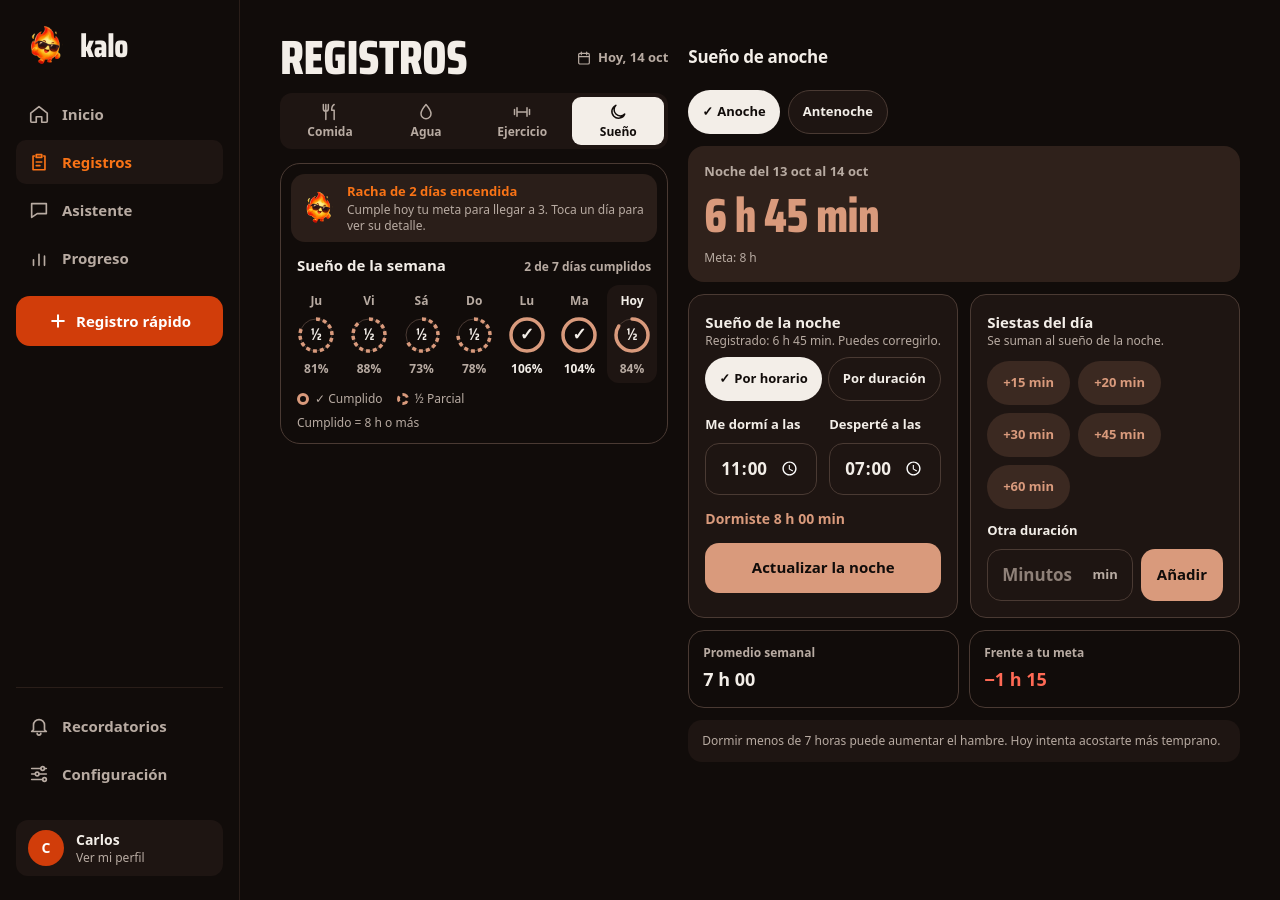
Scenario: Registros · hábitos › suma las siestas al total del día y permite quitarlas
Click the button "+30 min" at point(1029, 435), box [987,413,1070,457]
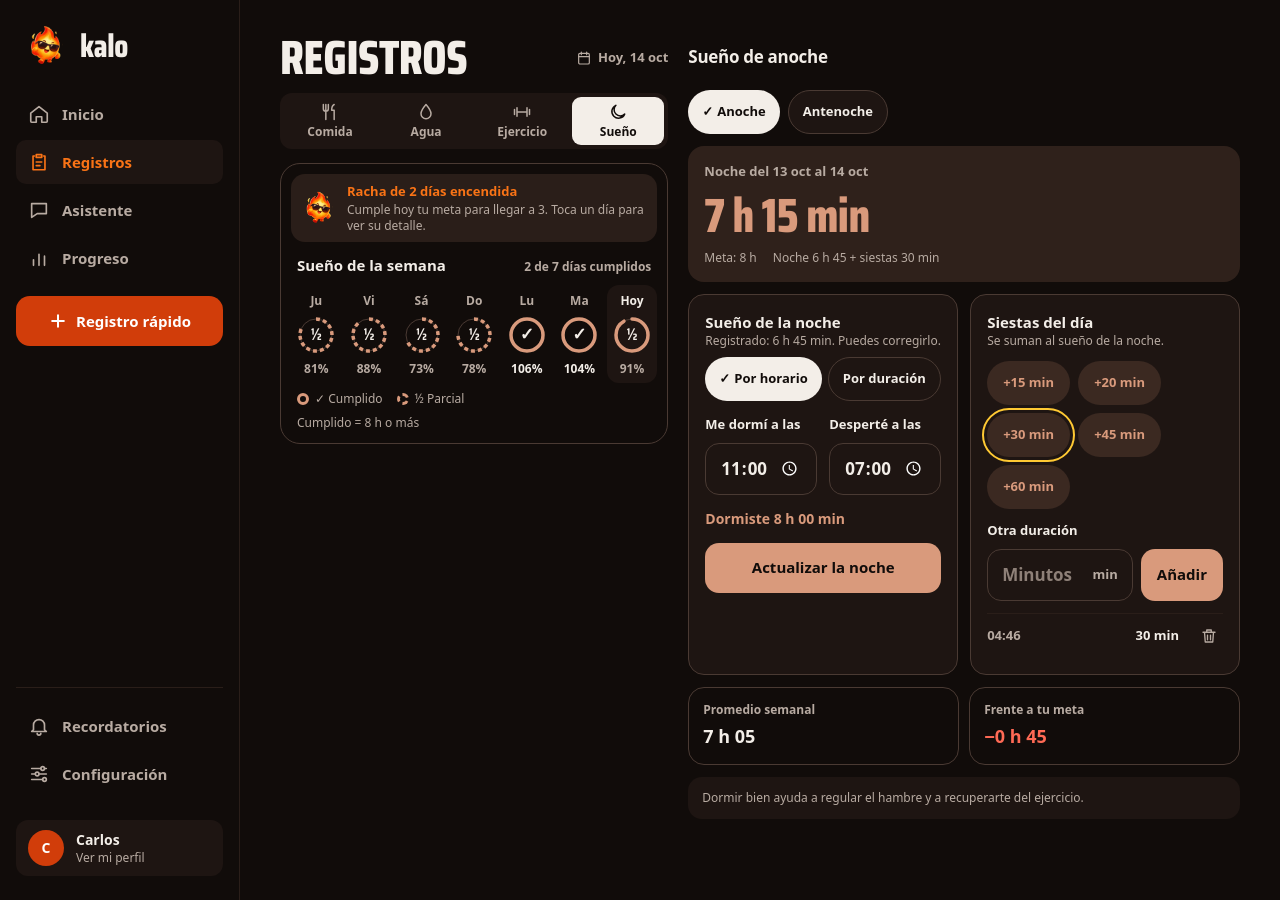
expect the text "7 h 15 min" is shown: met, box [704,178,870,252]
expect the text "Noche 6 h 45 + siestas 30 min" is shown: met, box [773,250,940,266]
Type "20" into the field labelled "Otra duración" at point(1043, 575), box [1002,562,1085,587]
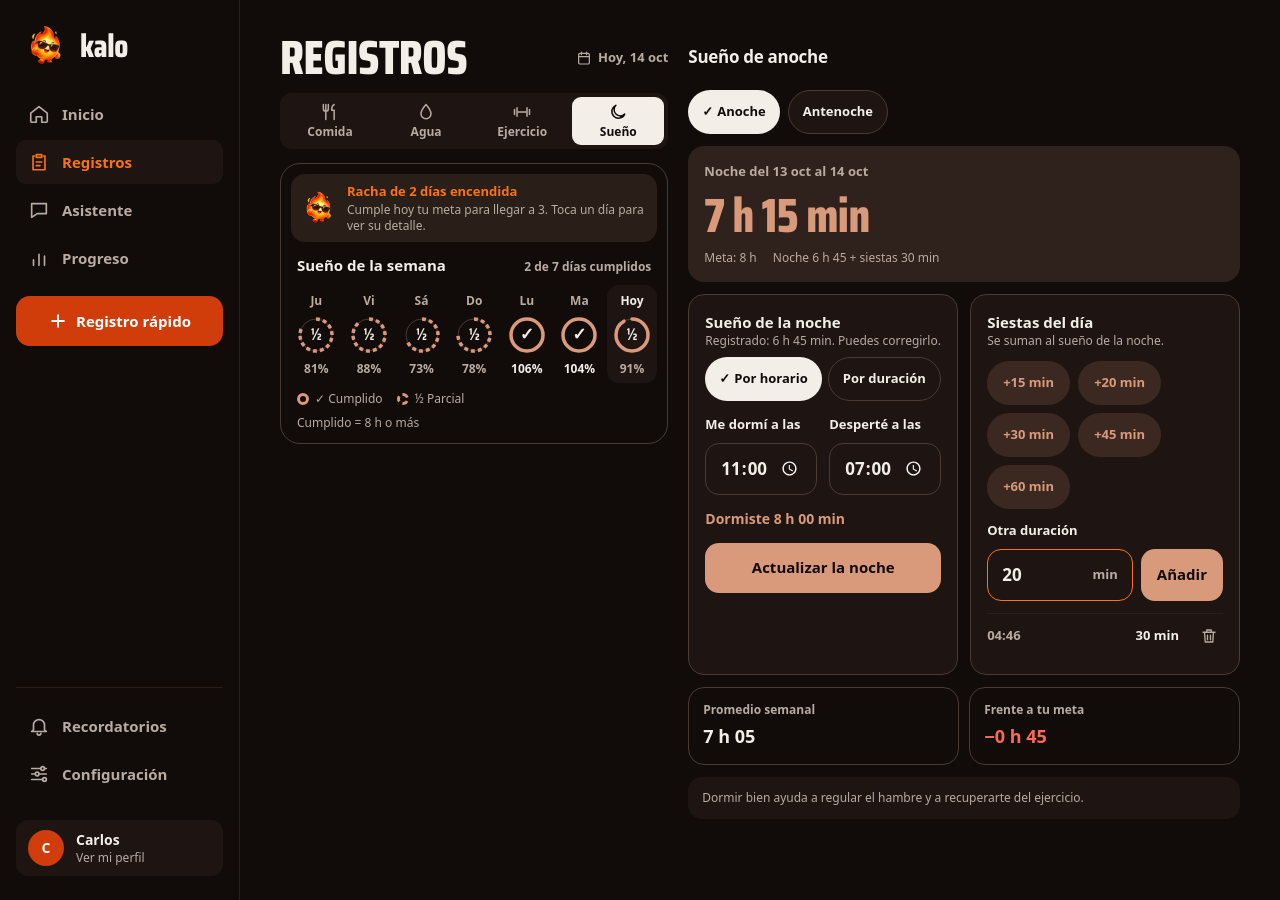
Click the button "Añadir" at point(1182, 574), box [1141,548,1223,600]
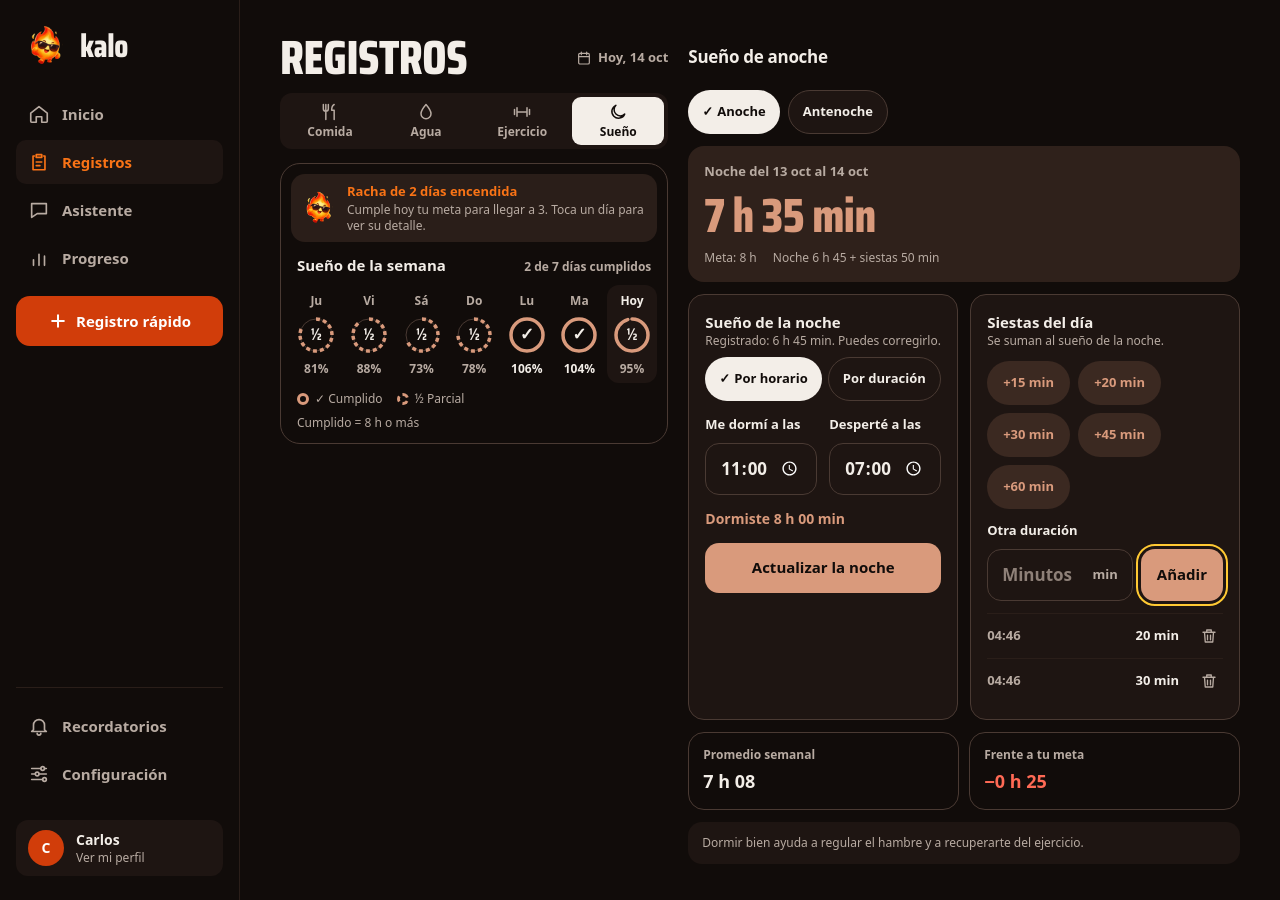
expect the text "7 h 35 min" is shown: met, box [704,178,876,252]
Click the button named "Eliminar la siesta de 20 min" at point(1209, 636), box [1187,614,1231,658]
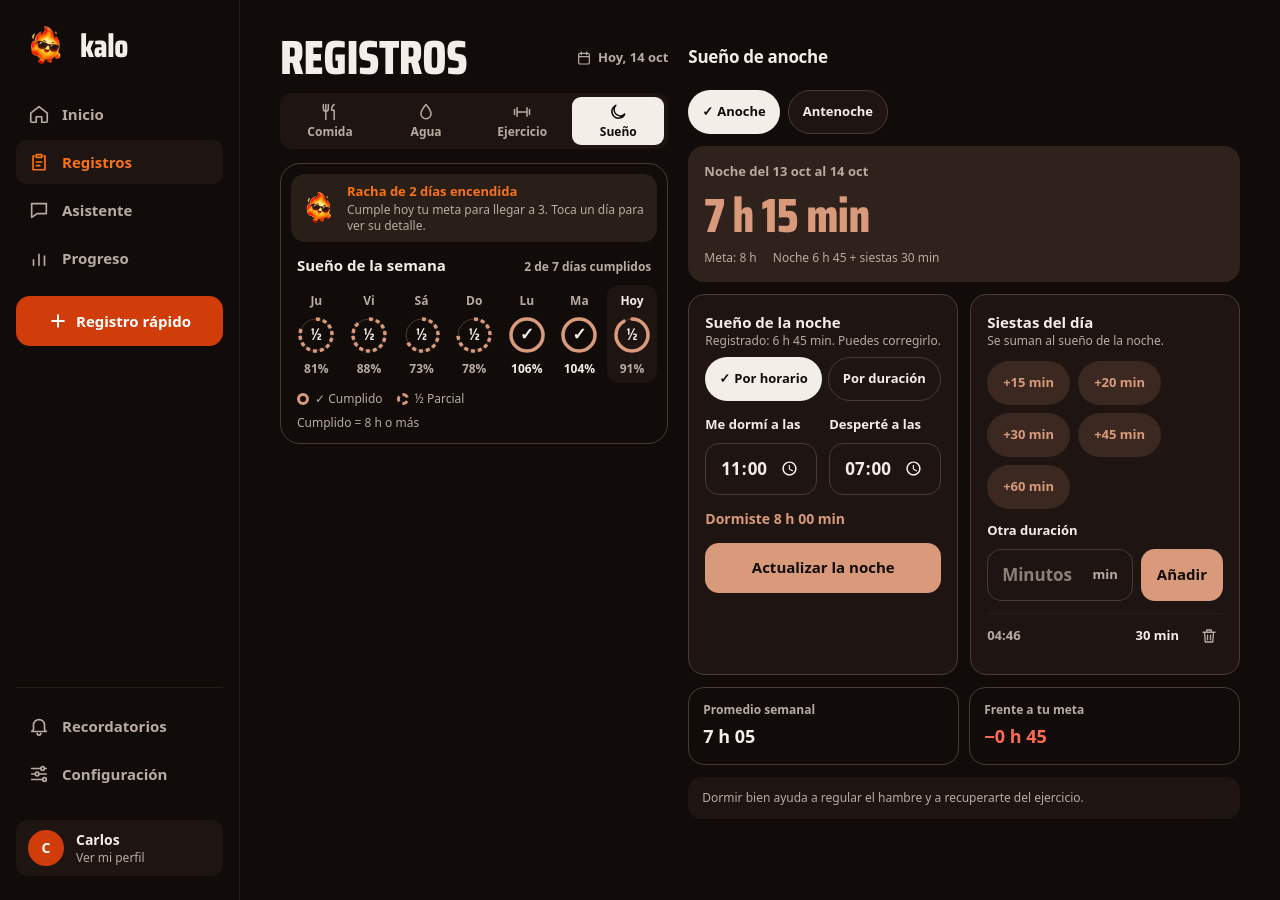
expect the text "7 h 15 min" is shown: met, box [704,178,870,252]
